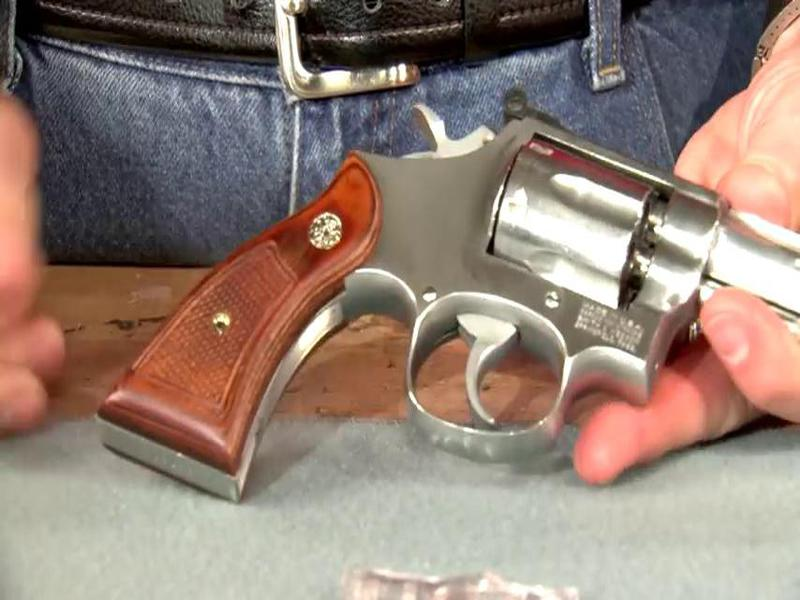Revolver: (114, 91, 800, 532)
